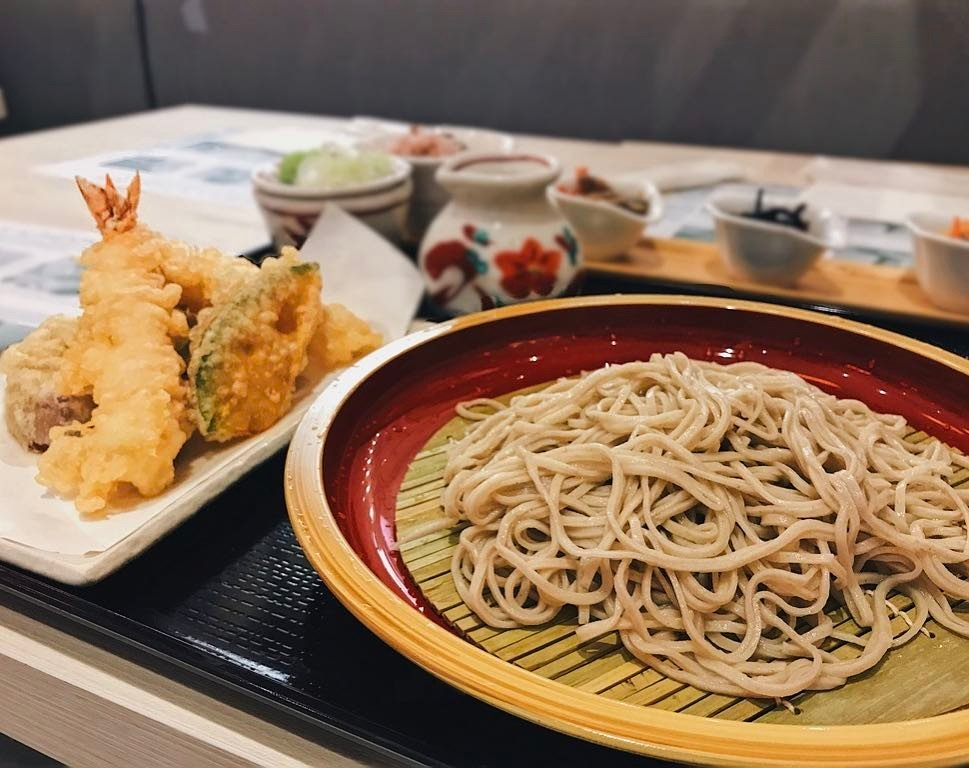Soba: (453, 355, 969, 711)
